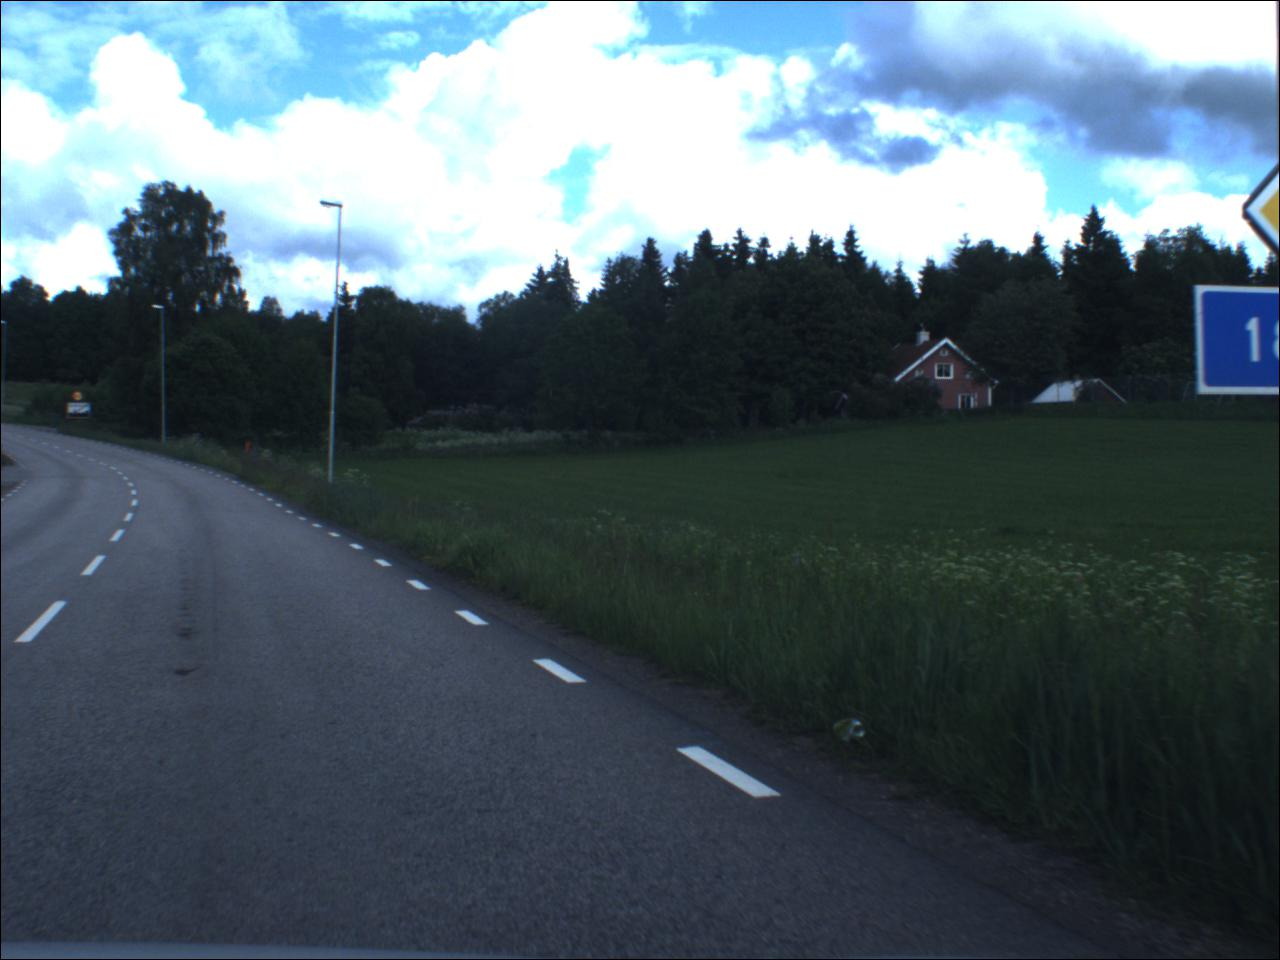80_SIGN: (73, 391, 87, 405)
